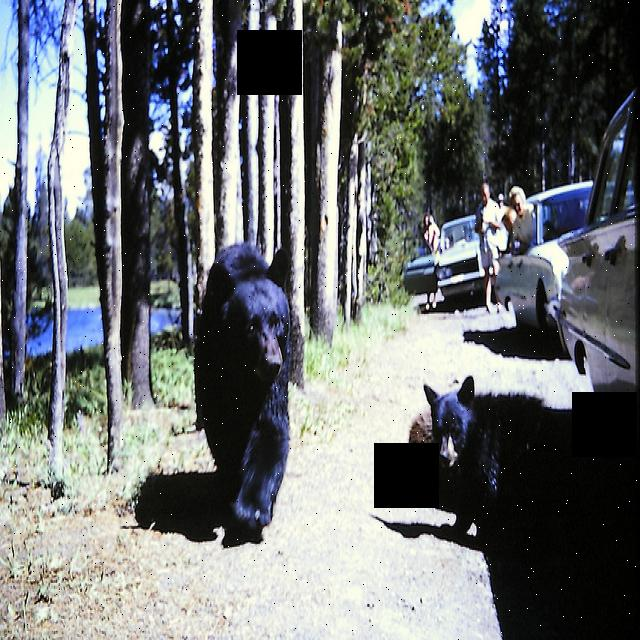Bear: (417, 369, 610, 547), (184, 234, 296, 532)
